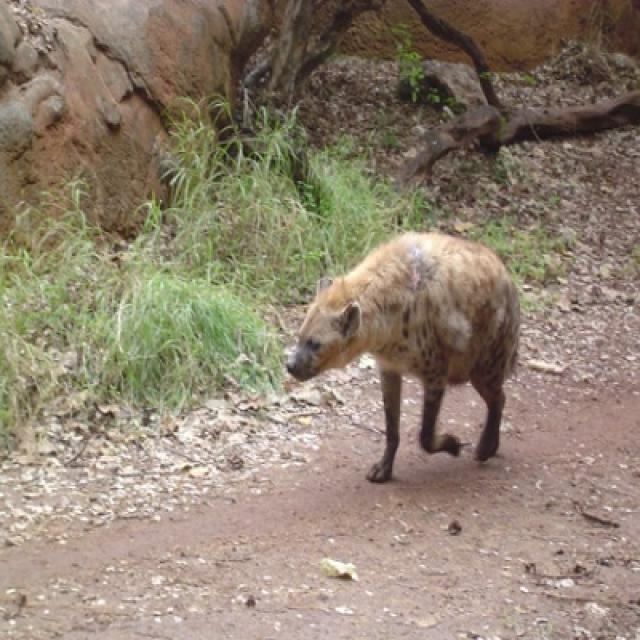hyena: (286, 232, 523, 486)
